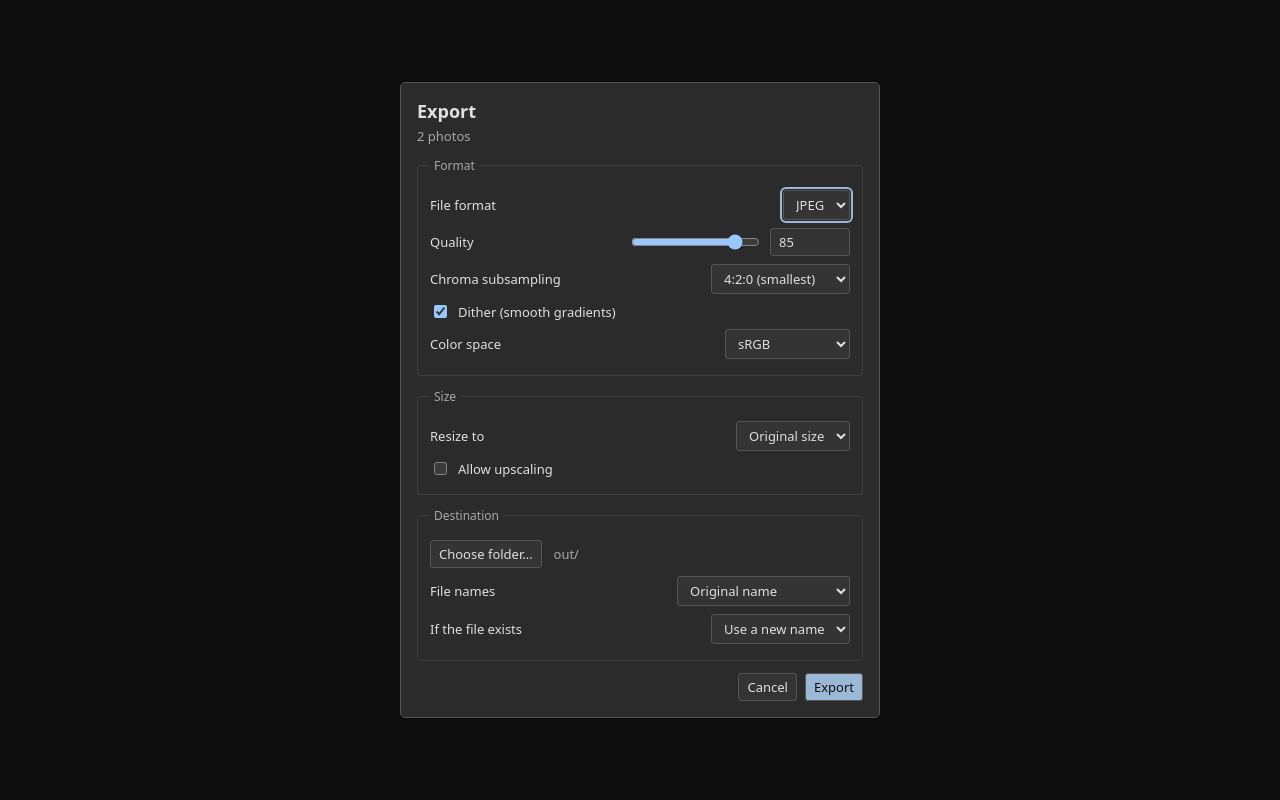
Test: ExportDialog › shows the options of the selected format
Check: the number field named "Quality" is shown, box [770,228,850,256]
Check: the text "Chroma subsampling" is shown, box [430,264,850,294]
Select "PNG" in the dropdown labelled "File format": (816, 205) [783,190,850,220]
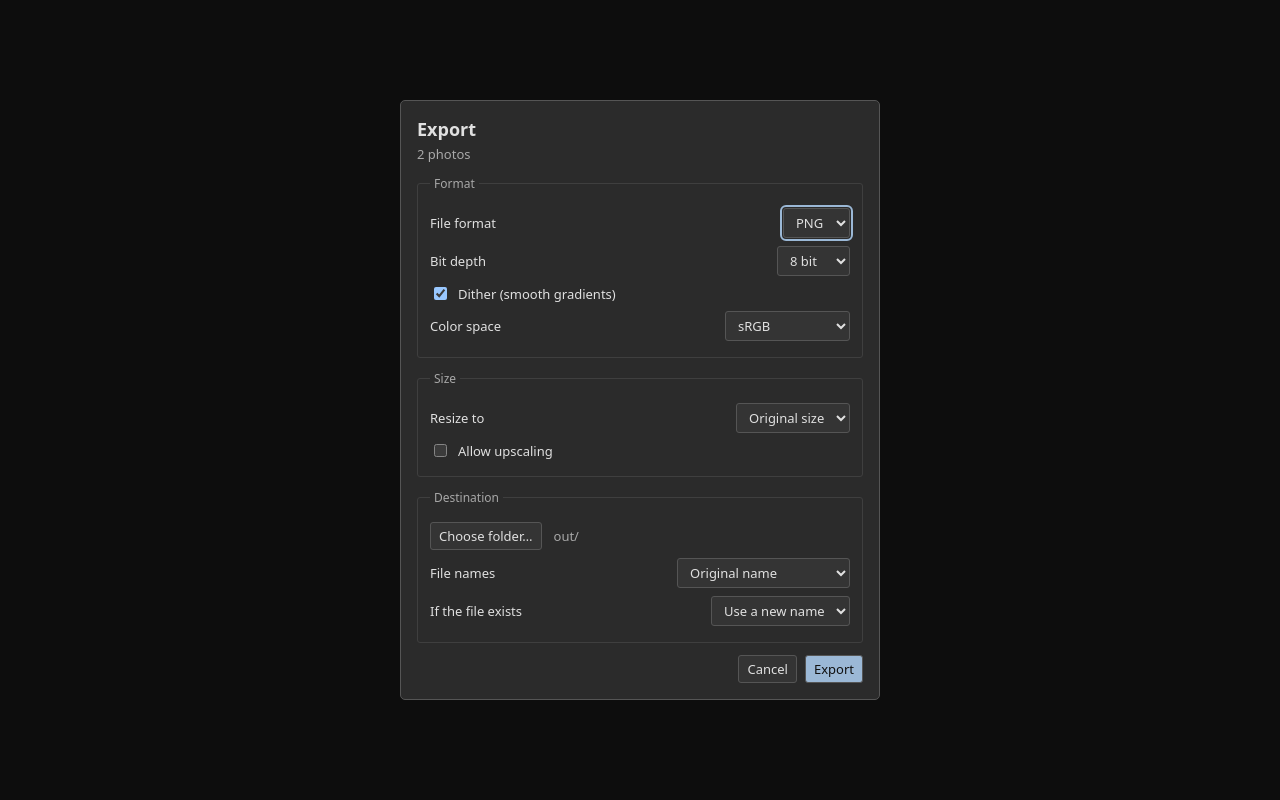
Check: the dropdown labelled "Bit depth" is shown, box [777,246,850,276]
Check: the label "Quality" is gone
Select "TIFF" in the dropdown labelled "File format": (816, 223) [783,208,850,238]
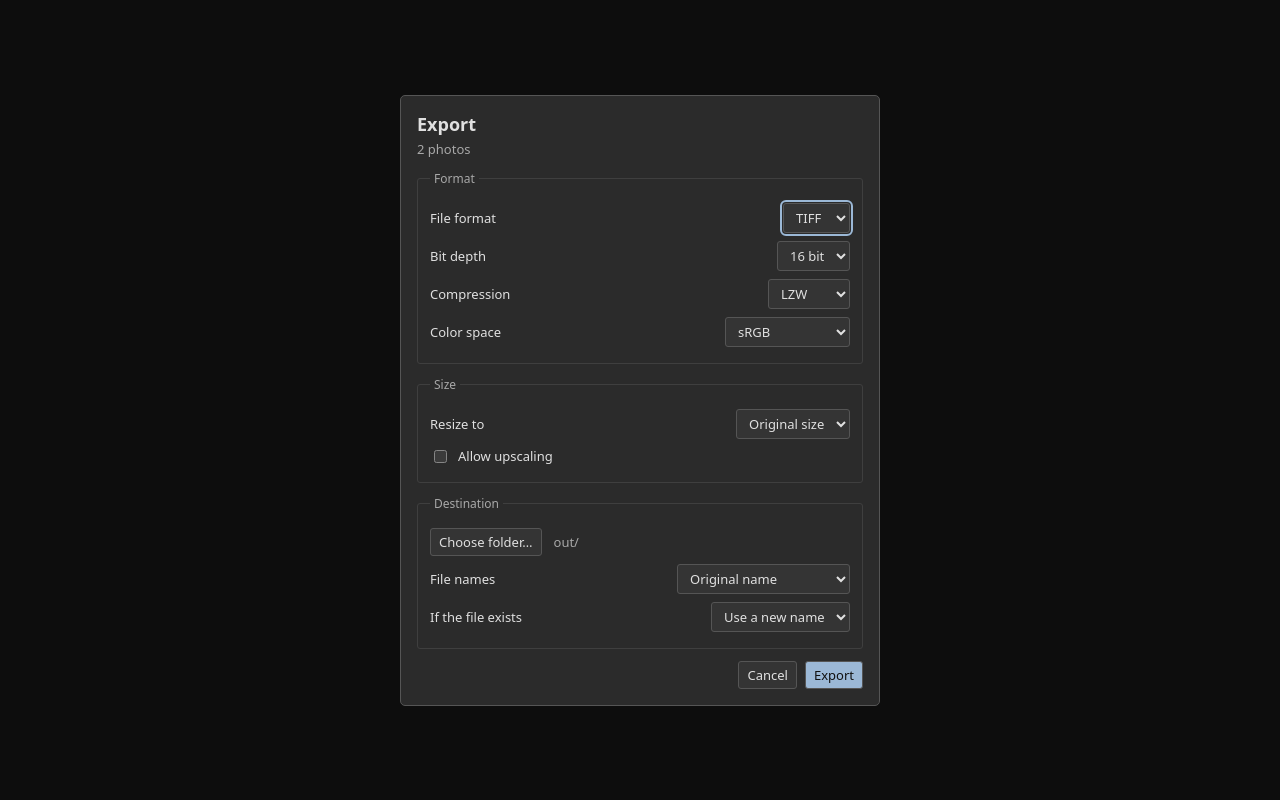
Check: the dropdown labelled "Compression" is shown, box [768,278,850,308]
Check: the label labelled "Dither" is gone
Select "8 bit" in the dropdown labelled "Bit depth": (814, 256) [777,240,850,270]
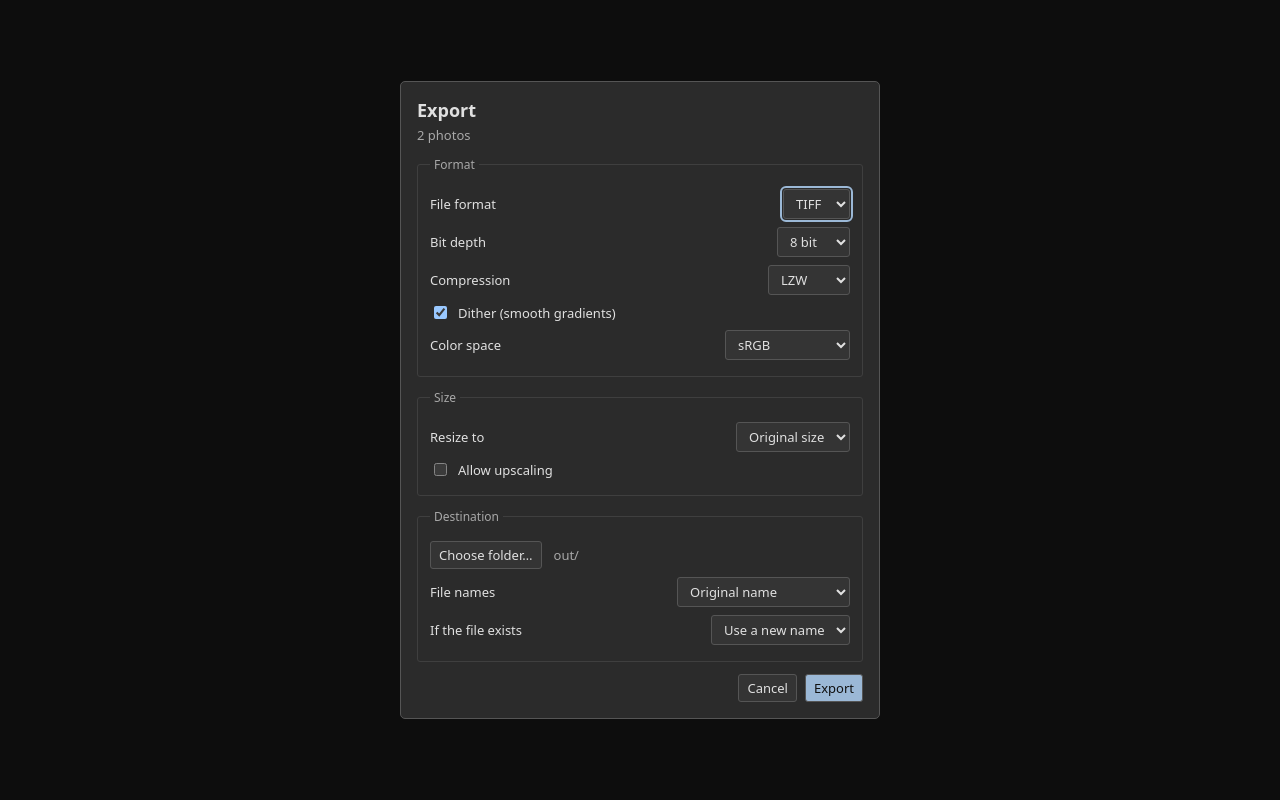
Check: the checkbox labelled "Dither (smooth gradients)" is shown, box [434,306,447,319]
